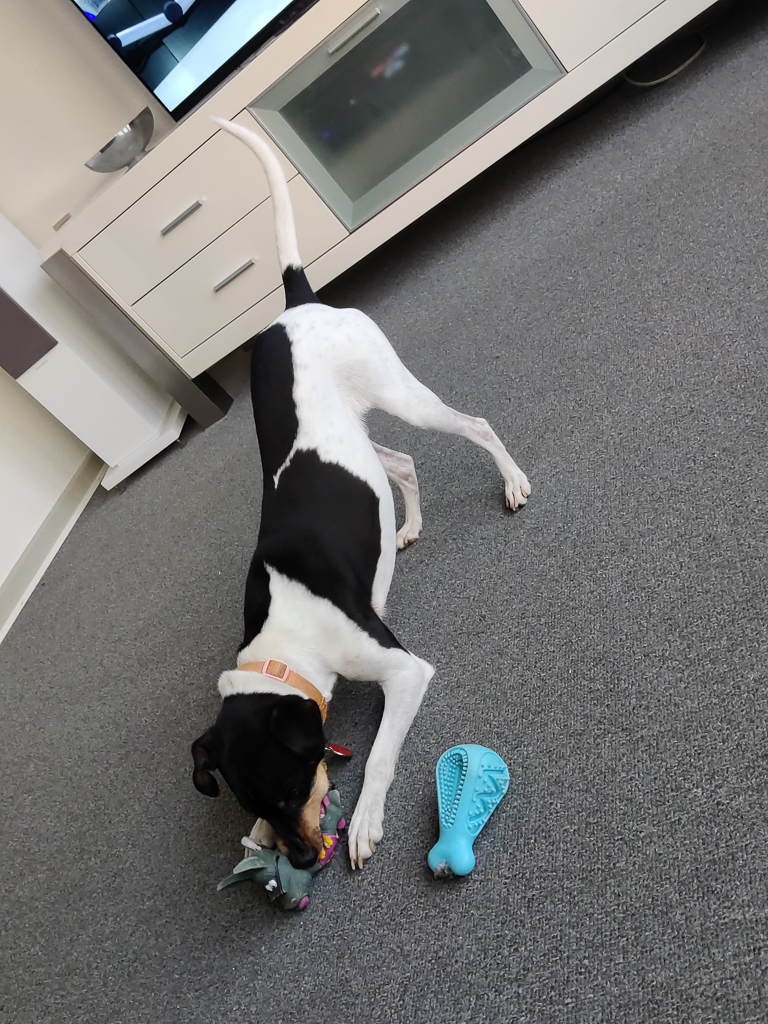Dog: (175, 103, 554, 935)
Humanoid: (211, 776, 352, 918)
